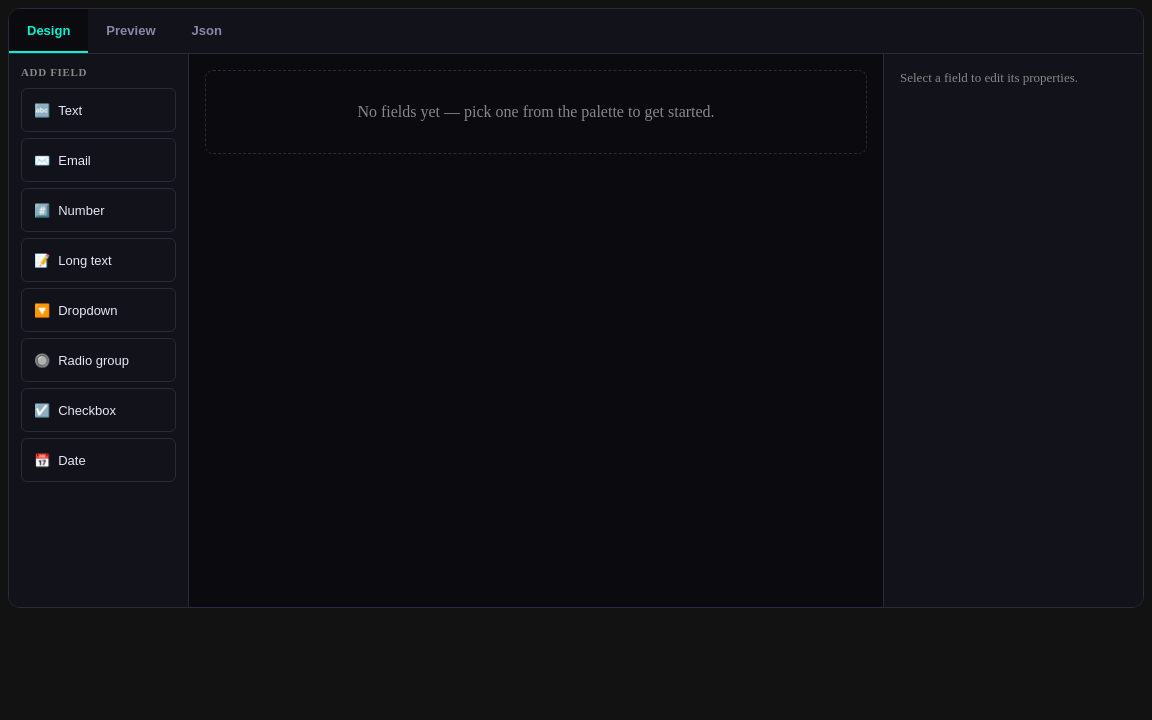
it: TkxFormBuilder › removes a field via the remove button
What coordinates should you click on to do the following:
click the button with test id "palette-text"
I would click on:
 (98, 110)
Its box is [21,88,176,132].
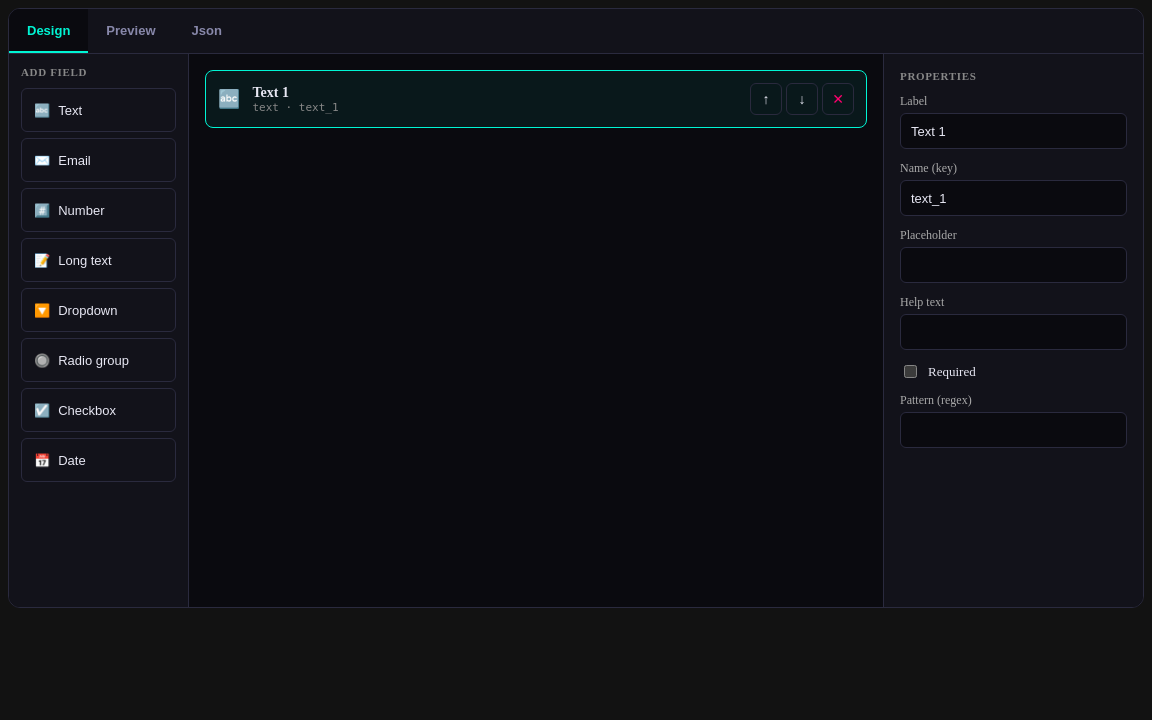
Check: the text "Text 1" is shown, box [252,84,289,100]
What coordinates should you click on to do the following:
click the button named "Remove Text 1"
I would click on:
 (838, 99)
Its box is [822,83,854,115].
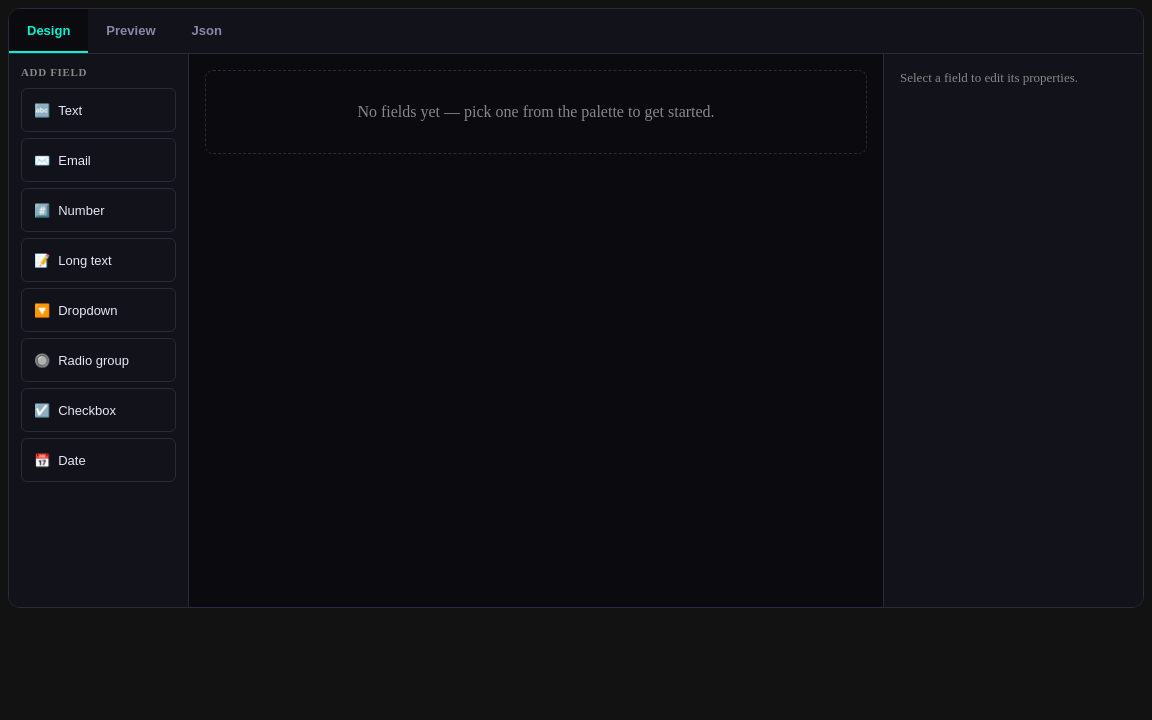
Check: the text "Text 1" is gone
